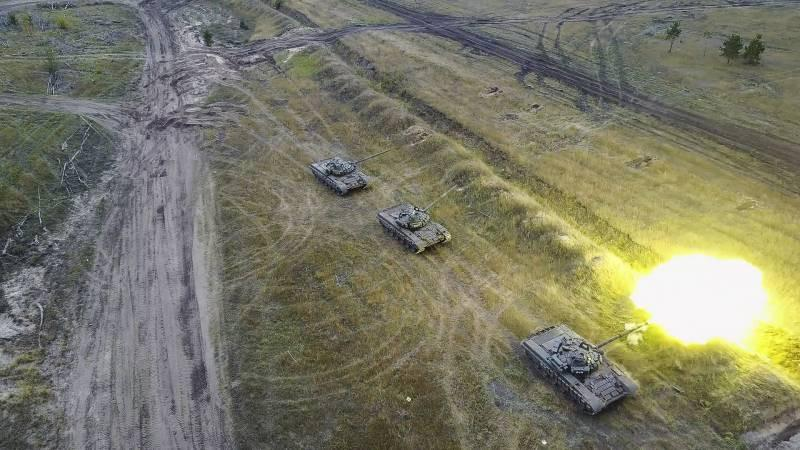tank: (519, 323, 643, 416), (376, 184, 458, 255), (309, 149, 391, 197)
